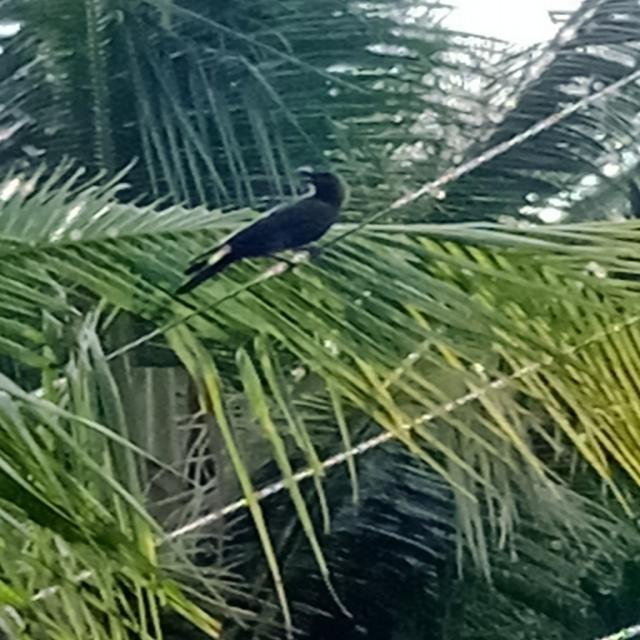bird: (167, 162, 363, 310)
